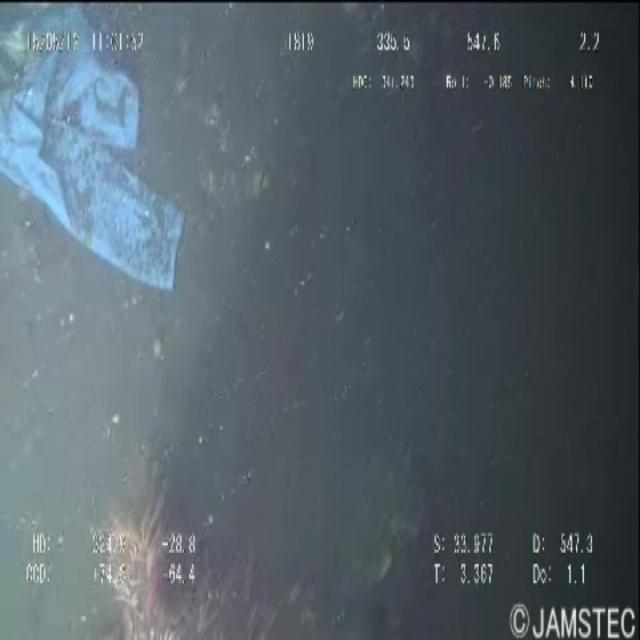Accessories: (1, 0, 192, 288)
